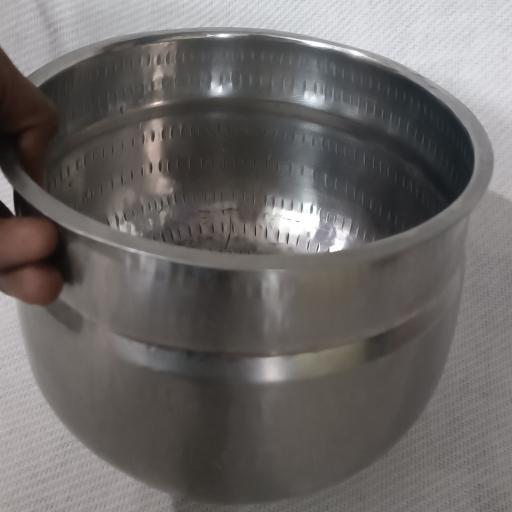vessel: (1, 29, 492, 502)
